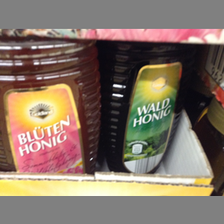honey: (1, 41, 104, 177), (110, 40, 189, 174)
